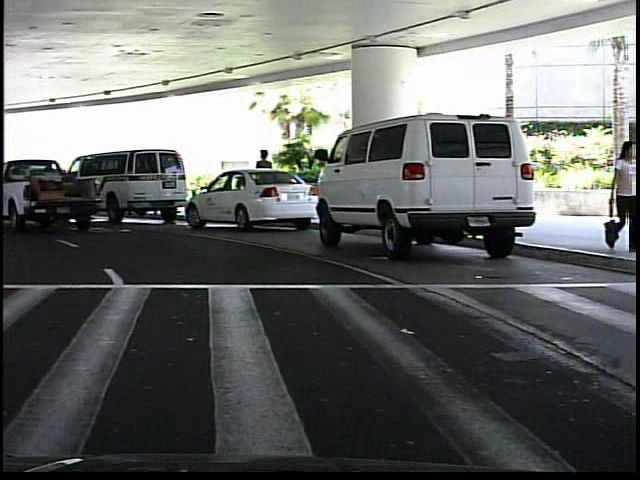person: (603, 139, 637, 253), (253, 147, 279, 217)
